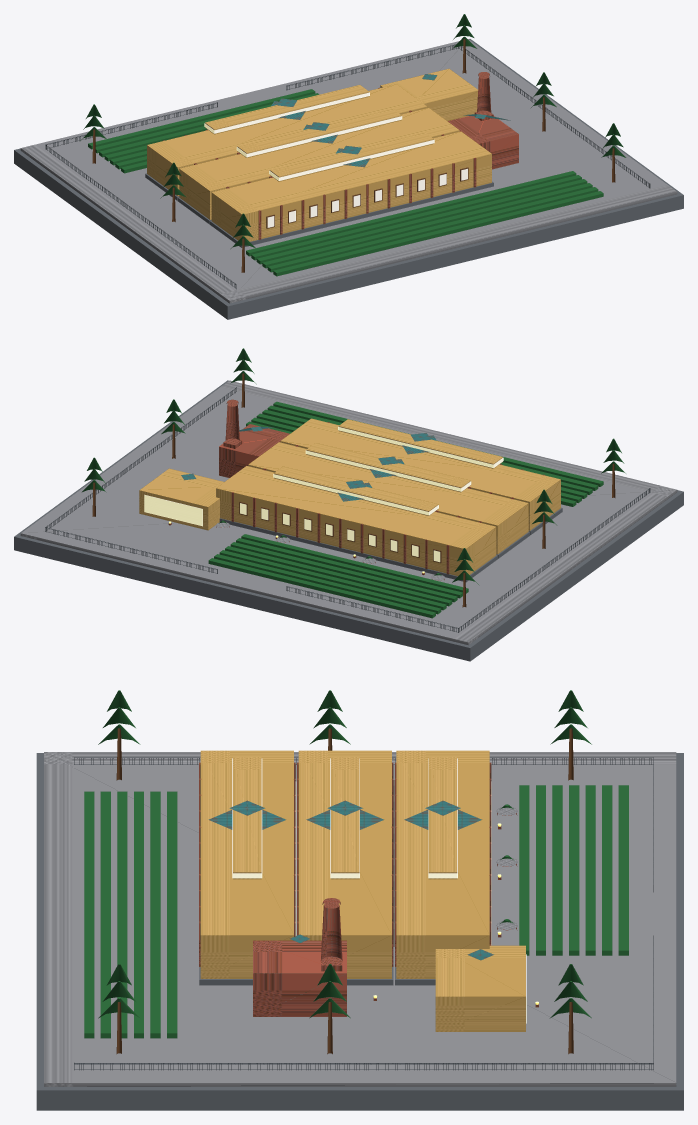
Rendered from ultra_lm_36_nha_may_che_cau_dat_1927.glb.
The picture shows the model from 3 angles, top to bottom: view 1: azimuth 30°, elevation 25°; view 2: azimuth 150°, elevation 25°; view 3: azimuth 270°, elevation 25°; orthographic projection. The views are drawn at different scales.
Visible parts, largest first — view 1: Courtyard_And_Walkways, ThreeBay_1927_Factory_Walls, Terraced_Century_Tea_Rows, FoundationSkirt_Minus3m, Brick_Kiln_Chimney_And_Pilasters, Factory_Clerestory_And_Arch_Windows, Antique_Tea_Machinery_And_Railings, Timber_Frames_And_Tea_Withering_Racks, Patina_Teal_Gable_And_Monitor_Roofs; view 2: Courtyard_And_Walkways, ThreeBay_1927_Factory_Walls, Terraced_Century_Tea_Rows, FoundationSkirt_Minus3m, Factory_Clerestory_And_Arch_Windows, Brick_Kiln_Chimney_And_Pilasters, Antique_Tea_Machinery_And_Railings, Timber_Frames_And_Tea_Withering_Racks, Patina_Teal_Gable_And_Monitor_Roofs; view 3: Courtyard_And_Walkways, ThreeBay_1927_Factory_Walls, Terraced_Century_Tea_Rows, FoundationSkirt_Minus3m, Brick_Kiln_Chimney_And_Pilasters, Antique_Tea_Machinery_And_Railings, Patina_Teal_Gable_And_Monitor_Roofs, Factory_Clerestory_And_Arch_Windows, Timber_Frames_And_Tea_Withering_Racks.
Part boxes in pixels (x1,y1,x2,y2): Courtyard_And_Walkways: [20, 39, 677, 303]; ThreeBay_1927_Factory_Walls: [147, 68, 491, 241]; Terraced_Century_Tea_Rows: [80, 14, 625, 276]; FoundationSkirt_Minus3m: [14, 39, 683, 319]; Brick_Kiln_Chimney_And_Pilasters: [163, 72, 518, 239]; Factory_Clerestory_And_Arch_Windows: [204, 92, 467, 227]; Antique_Tea_Machinery_And_Railings: [45, 44, 650, 289]; Timber_Frames_And_Tea_Withering_Racks: [92, 39, 615, 272]; Patina_Teal_Gable_And_Monitor_Roofs: [271, 74, 510, 167]; Courtyard_And_Walkways: [20, 380, 677, 645]; ThreeBay_1927_Factory_Walls: [139, 418, 560, 575]; Terraced_Century_Tea_Rows: [82, 348, 625, 618]; FoundationSkirt_Minus3m: [14, 380, 683, 661]; Factory_Clerestory_And_Arch_Windows: [144, 426, 503, 562]; Brick_Kiln_Chimney_And_Pilasters: [168, 399, 545, 580]; Antique_Tea_Machinery_And_Railings: [45, 387, 650, 632]; Timber_Frames_And_Tea_Withering_Racks: [92, 373, 615, 607]; Patina_Teal_Gable_And_Monitor_Roofs: [181, 426, 436, 501]; Courtyard_And_Walkways: [44, 752, 676, 1086]; ThreeBay_1927_Factory_Walls: [200, 750, 525, 1031]; Terraced_Century_Tea_Rows: [84, 690, 628, 1038]; FoundationSkirt_Minus3m: [36, 753, 683, 1110]; Brick_Kiln_Chimney_And_Pilasters: [199, 762, 538, 1016]; Antique_Tea_Machinery_And_Railings: [74, 757, 653, 1069]; Patina_Teal_Gable_And_Monitor_Roofs: [208, 800, 493, 960]; Factory_Clerestory_And_Arch_Windows: [232, 758, 526, 1023]; Timber_Frames_And_Tea_Withering_Racks: [116, 728, 573, 1053].
Bounding box in the file's own units: 106 × 19.55 × 89.
10 materials, 4 textured.
